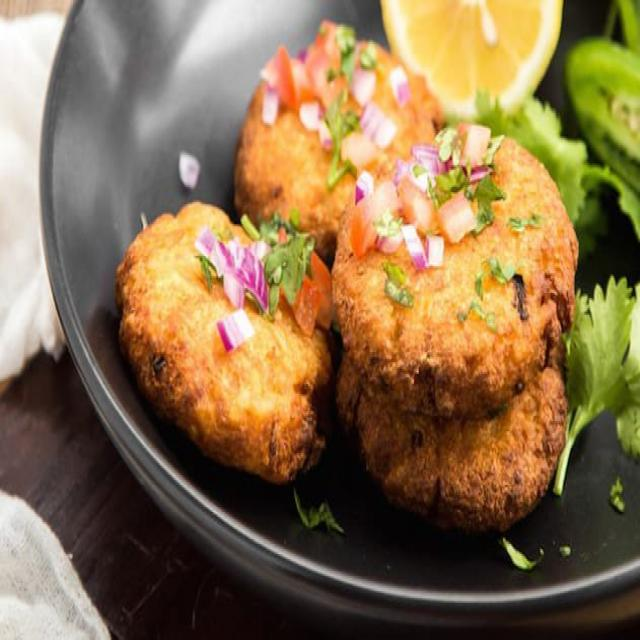Aloo Tikki: (338, 126, 579, 410), (115, 204, 337, 485), (236, 19, 450, 262), (339, 346, 567, 536)
